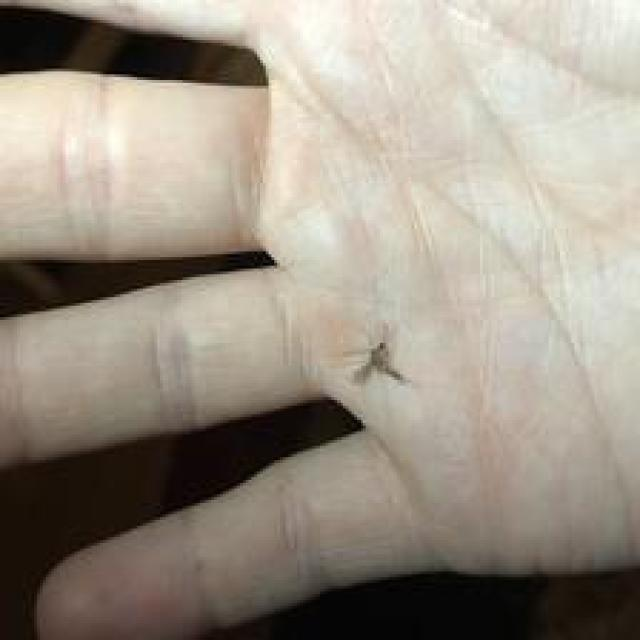Culex: (348, 339, 408, 387)
